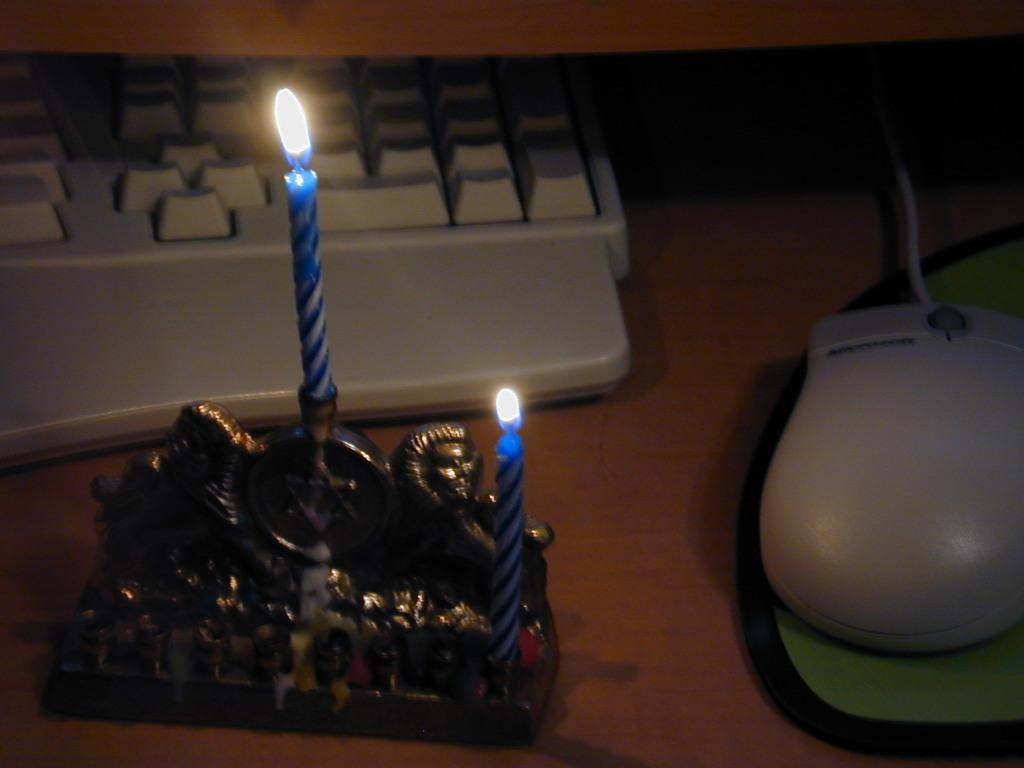Computer-mouse: (755, 300, 1023, 659)
